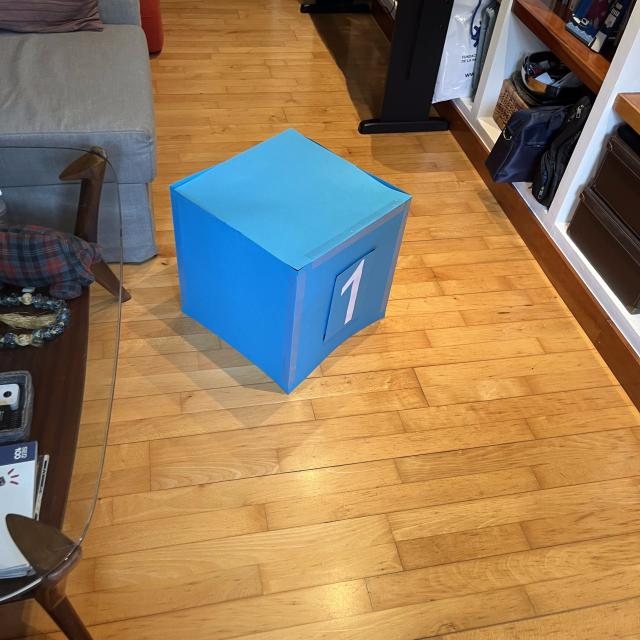box: (164, 124, 416, 396)
